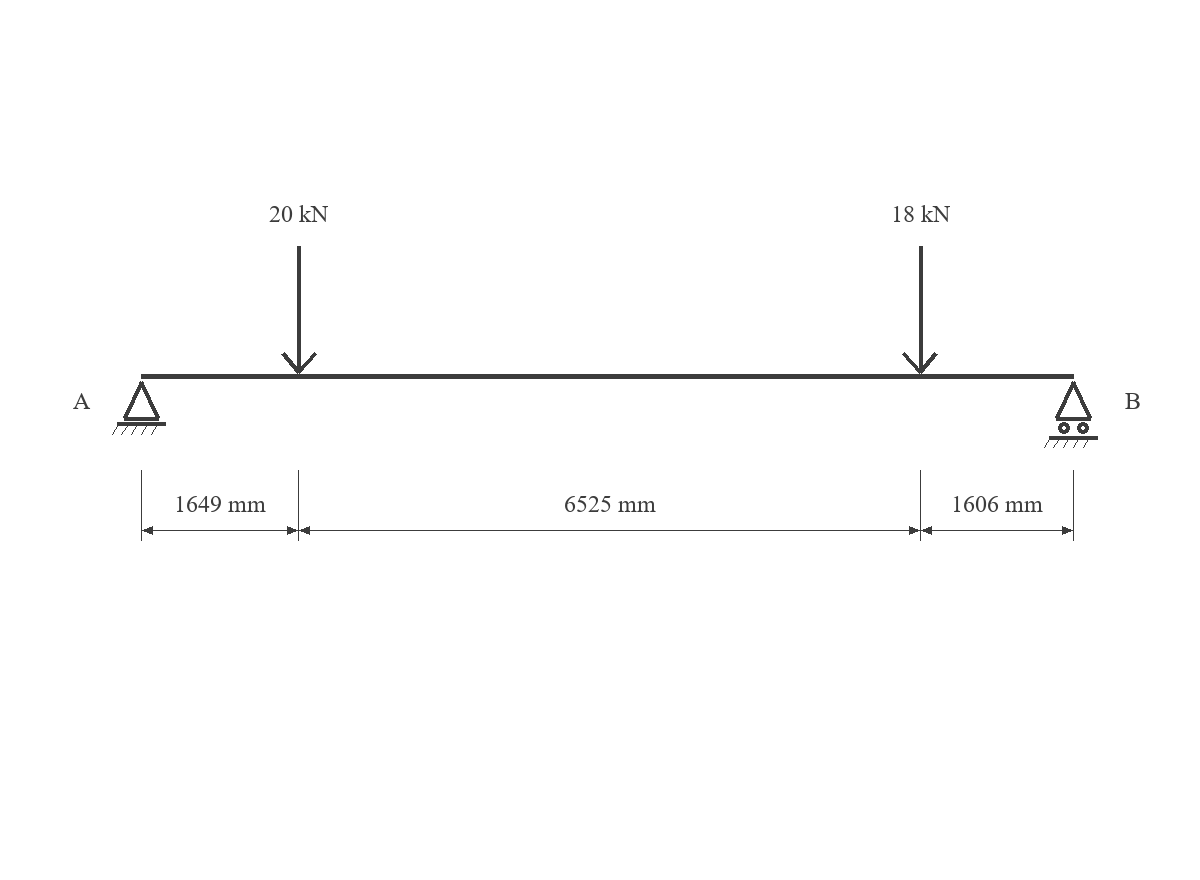pin_support: (112, 381, 166, 435)
point_load: (281, 246, 317, 374), (902, 246, 938, 374)
roller_support: (1044, 381, 1098, 448)
